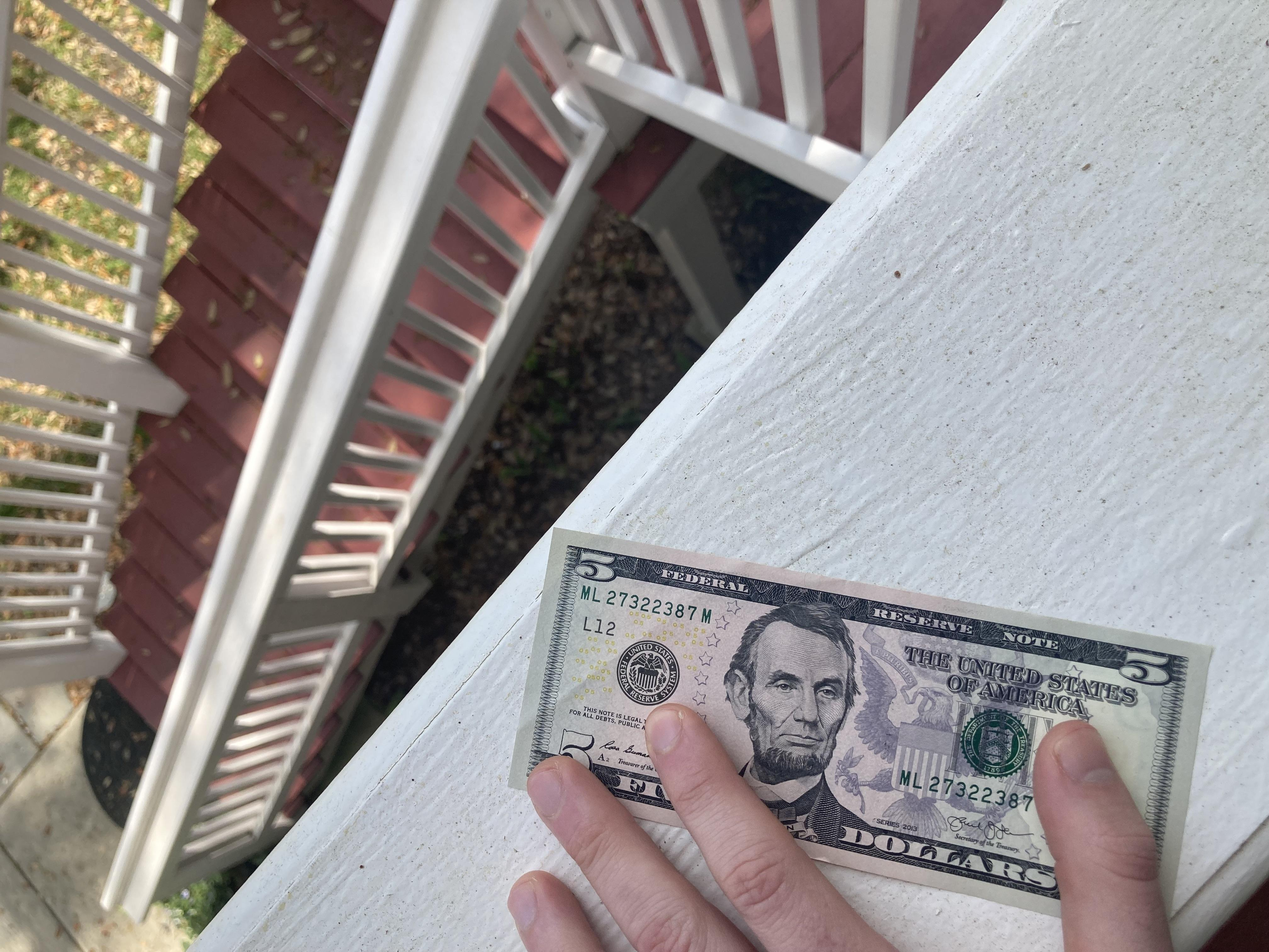five-front: (13, 382, 569, 909)
